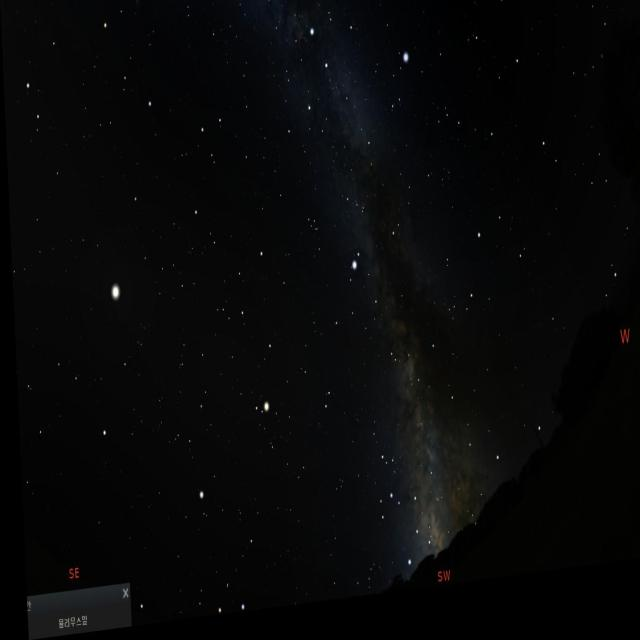aquila: (324, 250, 410, 388)
lyra: (376, 55, 420, 135)
sagittarius: (383, 492, 428, 578)
